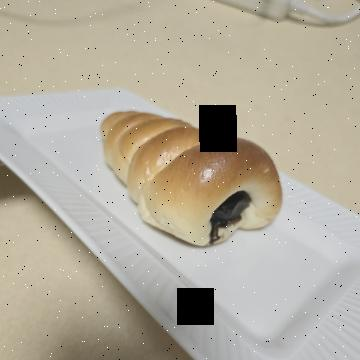cream horn: (87, 67, 258, 276)
